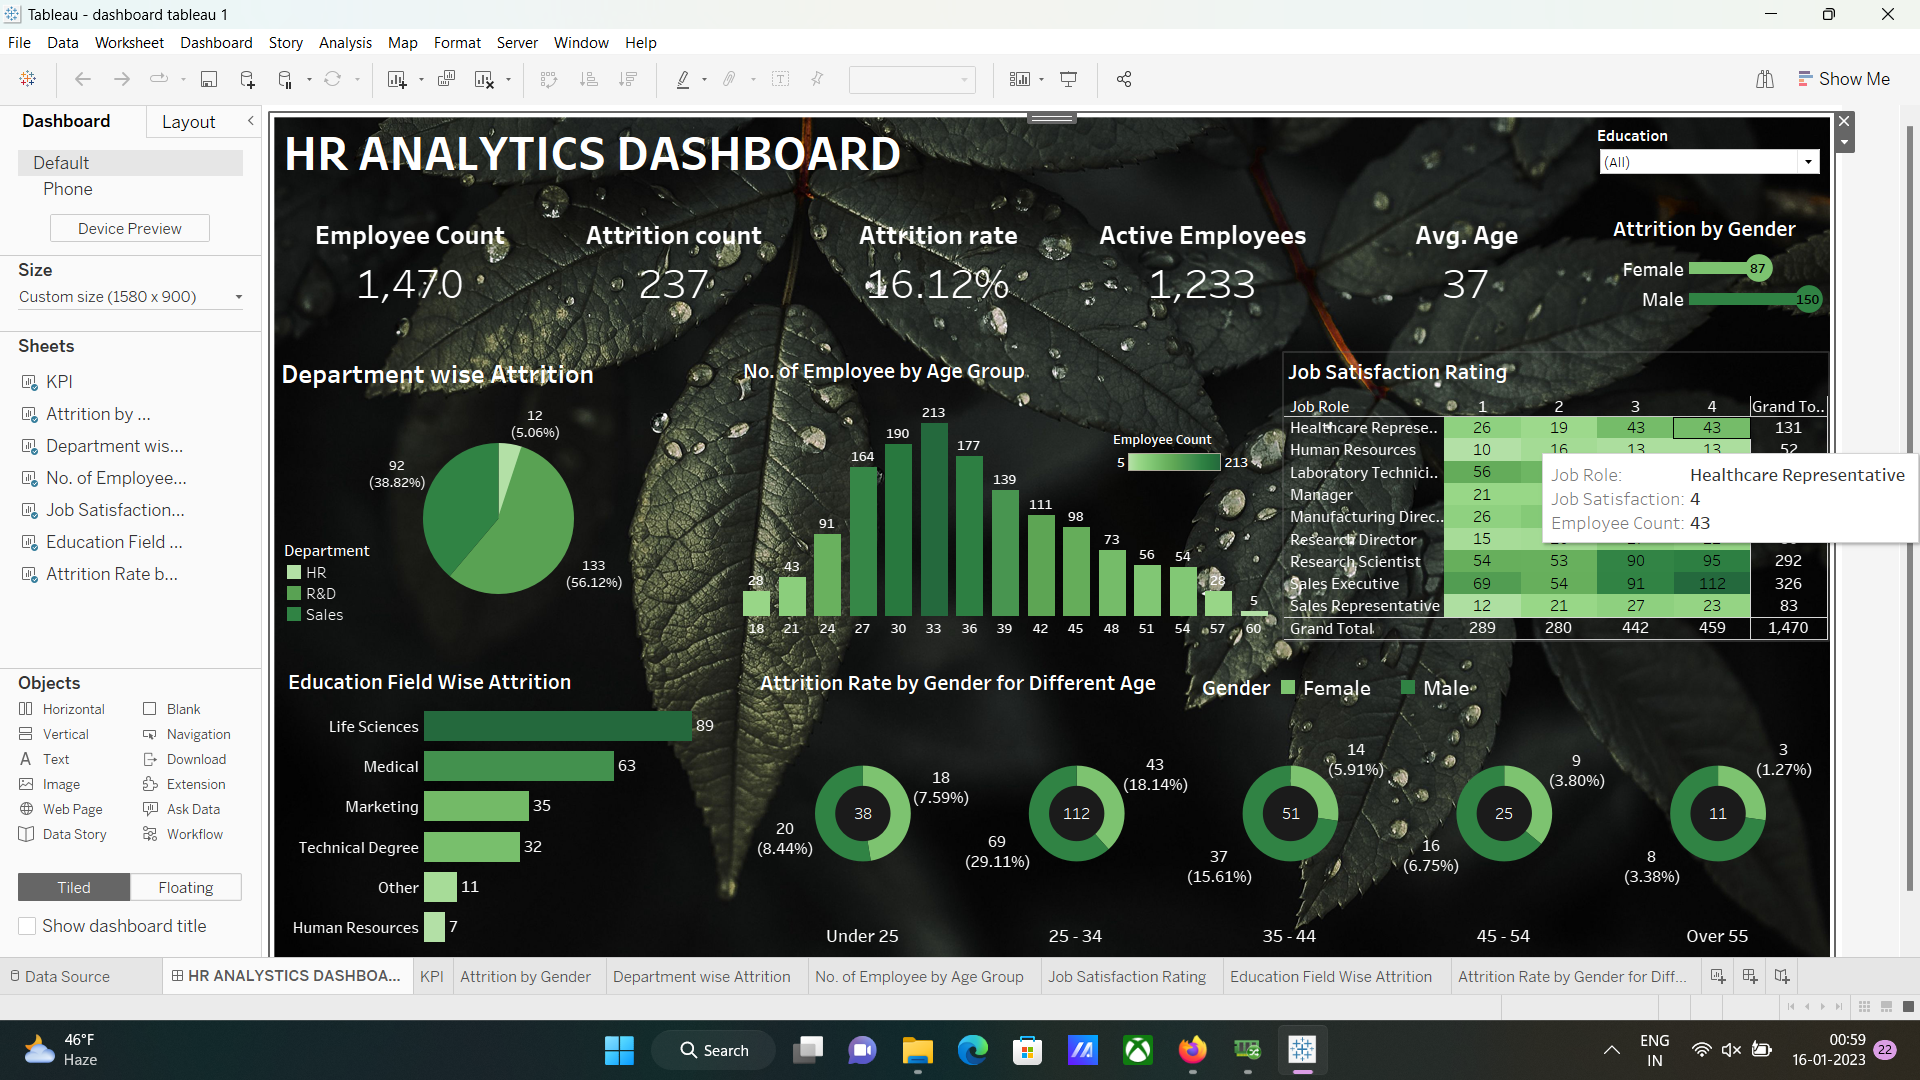

The dashboard page shown, as its layout file describes it:
{"tool":"tableau","page":{"name":"HR ANALYSTICS DASHBOARD","canvas":[1580,900],"ordinal":0},"visuals":[{"type":"image","param":"C:/Users/dhruv/Downloads/plant_leaves_water_drops_dark_background_4k_hd_nature.j","box":[8,8,1564,884]},{"type":"text","box":[18,19,810,53]},{"type":"filter","title":"Attrition Rate by Gender for Different Age","param":"[federated.0tv2h051gwywsf19waom413gy1xy].[none:Education:nk]","box":[1335,20,226,51]},{"type":"worksheet","title":"Attrition by Gender","mark":"Automatic","rows":["Gender"],"cols":["Calculation_1021472743045296128","Calculation_1021472743045296128"],"box":[1347,105,220,104]},{"type":"worksheet","title":"KPI","mark":"Automatic","box":[16,106,1321,103]},{"type":"worksheet","title":"Department wise Attrition","mark":"Pie","box":[15,247,443,284]},{"type":"worksheet","title":"No. of Employee by Age Group","mark":"Automatic","rows":["Employee Count"],"cols":["Age (bin)"],"box":[477,247,533,286]},{"type":"worksheet","title":"Job Satisfaction Rating","mark":"Square","rows":["Job Role"],"cols":["Job Satisfaction"],"box":[1022,248,544,287]},{"type":"legend","title":"No. of Employee by Age Group","param":"[federated.0tv2h051gwywsf19waom413gy1xy].[sum:Employee Count:qk]","box":[851,325,140,79]},{"type":"legend","title":"Department wise Attrition","param":"[federated.0tv2h051gwywsf19waom413gy1xy].[none:Department:nk]","box":[22,435,140,85]},{"type":"worksheet","title":"Education Field Wise Attrition","mark":"Automatic","rows":["Education Field"],"cols":["Calculation_1021472743045296128"],"box":[22,558,450,284]},{"type":"worksheet","title":"Attrition Rate by Gender for Different Age","mark":"Pie","rows":["Calculation_1021472743080521732","Calculation_1021472743080521732"],"cols":["CF_age band"],"box":[494,559,1069,284]},{"type":"legend","title":"Attrition Rate by Gender for Different Age","param":"[federated.0tv2h051gwywsf19waom413gy1xy].[none:Gender:nk]","box":[940,568,569,28]}]}

Visuals, with their boxes on the page's 1580x900 design canvas (x1, y1, x2, y2). These are canvas units, not pixel positions in the 1920x1080 screenshot, which may show the page scaled, cropped or inside an application window:
image: l=8, t=8, r=1572, b=892
text: l=18, t=19, r=828, b=72
"Attrition Rate by Gender for Different Age" filter: l=1335, t=20, r=1561, b=71
"Attrition by Gender" worksheet: l=1347, t=105, r=1567, b=209
"KPI" worksheet: l=16, t=106, r=1337, b=209
"Department wise Attrition" worksheet (Pie marks): l=15, t=247, r=458, b=531
"No. of Employee by Age Group" worksheet: l=477, t=247, r=1010, b=533
"Job Satisfaction Rating" worksheet (Square marks): l=1022, t=248, r=1566, b=535
"No. of Employee by Age Group" legend: l=851, t=325, r=991, b=404
"Department wise Attrition" legend: l=22, t=435, r=162, b=520
"Education Field Wise Attrition" worksheet: l=22, t=558, r=472, b=842
"Attrition Rate by Gender for Different Age" worksheet (Pie marks): l=494, t=559, r=1563, b=843
"Attrition Rate by Gender for Different Age" legend: l=940, t=568, r=1509, b=596
